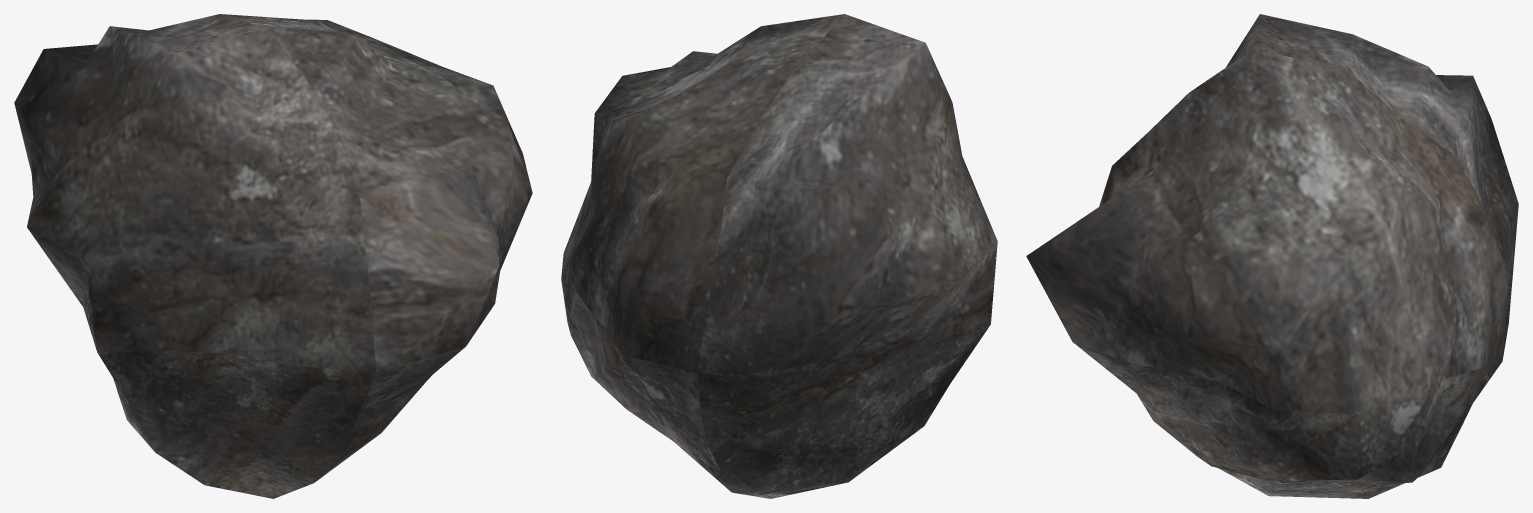
The model's file is Rock1.FBX.
3 renders of one model, left to right at view 1: azimuth 30°, elevation 25°; view 2: azimuth 150°, elevation 25°; view 3: azimuth 270°, elevation 25°, orthographic. The views are drawn at different scales.
Visible parts, largest first — view 1: rockLP001; view 2: rockLP001; view 3: rockLP001.
Boxes of the visible parts, left/top/right/bottom form: rockLP001: left=14, top=14, right=532, bottom=498; rockLP001: left=561, top=14, right=997, bottom=498; rockLP001: left=1026, top=14, right=1518, bottom=498.
Bounding box in the file's own units: 2.6 × 2.69 × 2.72.
Materials: 1 (1 with a texture image).
